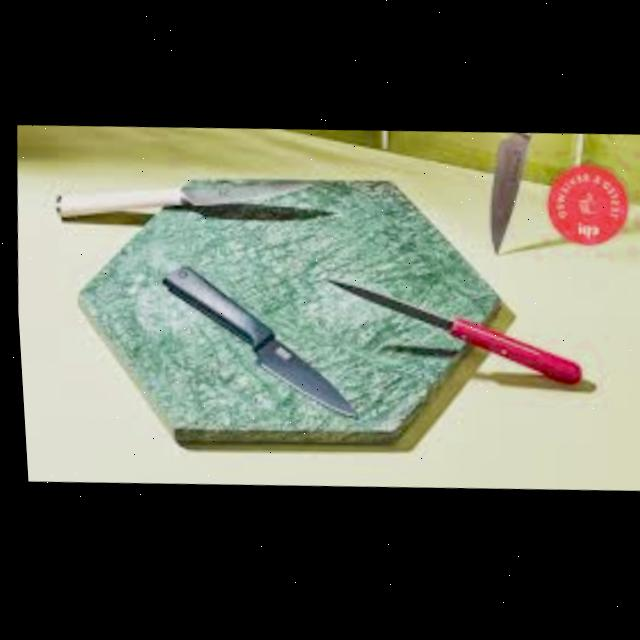Knife: (151, 261, 361, 427), (321, 274, 584, 395), (52, 167, 315, 233), (483, 136, 543, 260)
